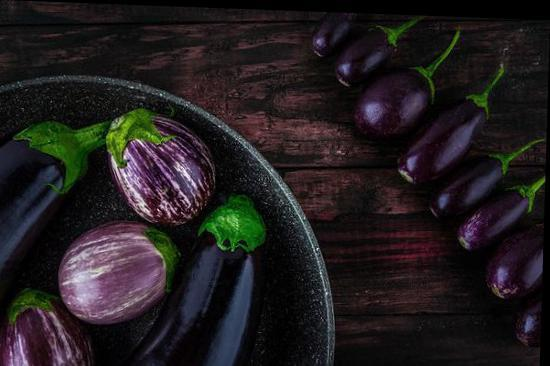eggplant: (94, 100, 235, 227), (51, 217, 180, 328), (0, 285, 113, 365)
